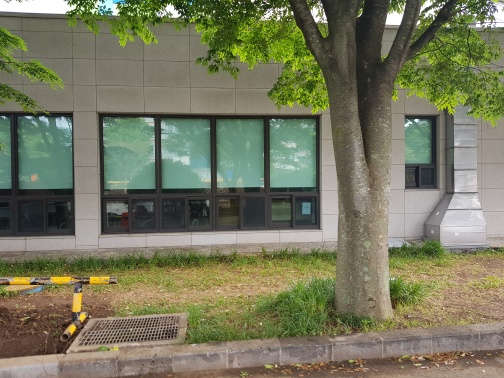Gym: (5, 11, 500, 242)
